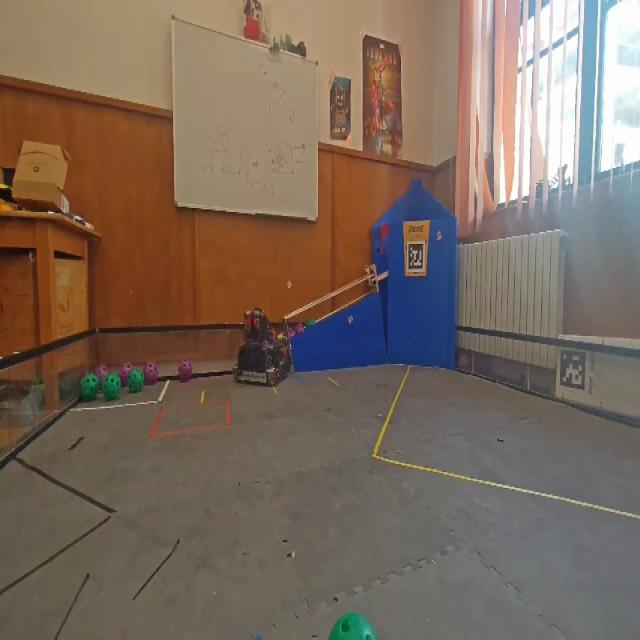artifact_green: (329, 614, 376, 639), (81, 374, 99, 401), (103, 374, 121, 401), (129, 367, 143, 393), (305, 319, 315, 327)
artifact_purple: (144, 363, 158, 385), (95, 364, 108, 387), (120, 363, 132, 387), (179, 360, 192, 382), (296, 323, 305, 334), (288, 327, 296, 338)
